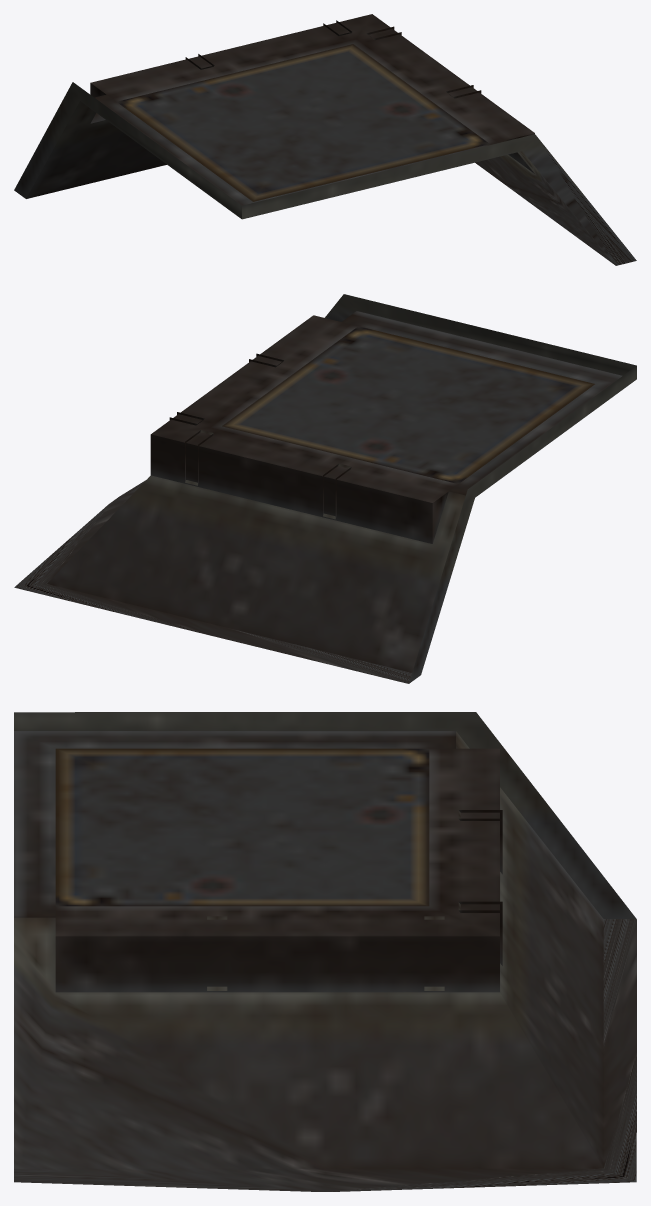
File: Ceiling_internall_corner_in.FBX
3 renders of one model, top to bottom at view 1: azimuth 30°, elevation 25°; view 2: azimuth 150°, elevation 25°; view 3: azimuth 270°, elevation 25°, orthographic. The views are drawn at different scales.
Visible parts, largest first — view 1: Ceiling_internall_corner_in; view 2: Ceiling_internall_corner_in; view 3: Ceiling_internall_corner_in.
Boxes of the visible parts, x1,y1,x2,y2 form: Ceiling_internall_corner_in: [14, 14, 636, 265]; Ceiling_internall_corner_in: [14, 294, 636, 683]; Ceiling_internall_corner_in: [14, 712, 636, 1191].
Size of the model in its own units: 311 by 110 by 300.
